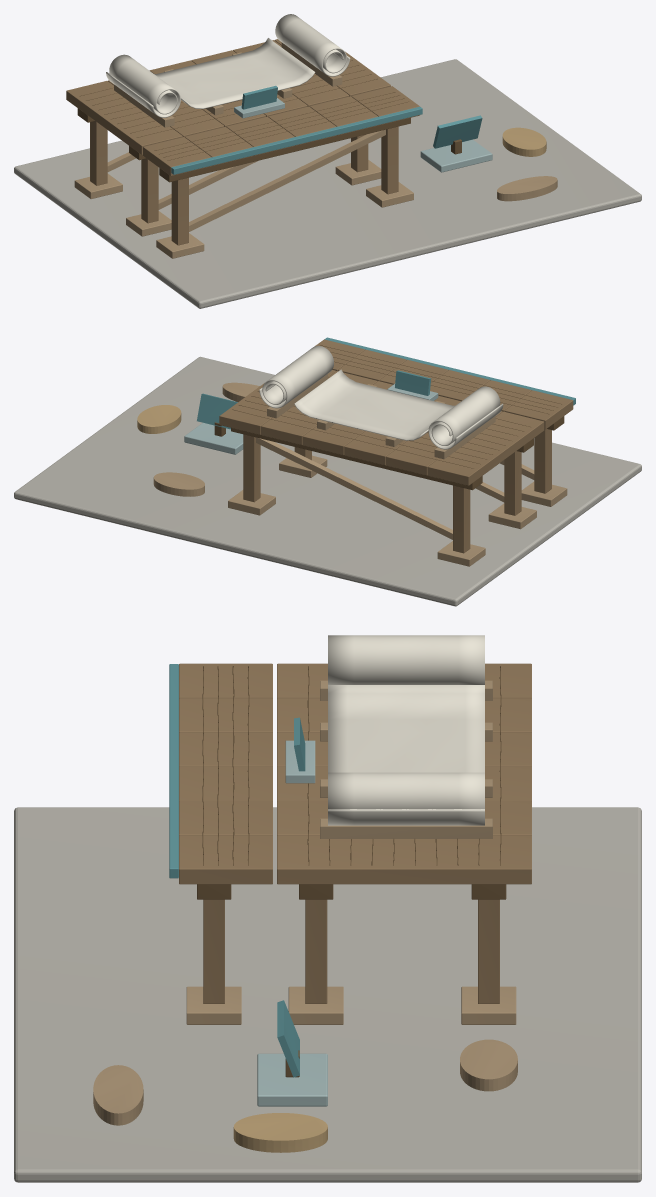
The model's file is nehemiah-reading.glb.
3 renders of one model, top to bottom at view 1: azimuth 30°, elevation 25°; view 2: azimuth 150°, elevation 25°; view 3: azimuth 270°, elevation 25°, orthographic. The views are drawn at different scales.
Visible parts, largest first — view 1: nehemiah-reading-nehemiah-modern-recessed-fixture, nehemiah-reading-nehemiah-original-ordinary-wood, nehemiah-reading-nehemiah-original-ordinary-wood.001, nehemiah-reading-nehemiah-modern-blank-curved-sheet, nehemiah-reading-nehemiah-original-pale-wood.001, nehemiah-reading-nehemiah-original-pale-wood, nehemiah-reading-nehemiah-original-wood-edge.001, nehemiah-reading-nehemiah-modern-blank-curved-sheet.001, nehemiah-reading-nehemiah-modern-blank-curved-sheet.002, nehemiah-reading-nehemiah-modern-section-indicator, nehemiah-reading-nehemiah-modern-pale-section-indicator.001, nehemiah-reading-nehemiah-original-pale-wood.002 (+6 smaller); view 2: nehemiah-reading-nehemiah-modern-recessed-fixture, nehemiah-reading-nehemiah-original-ordinary-wood, nehemiah-reading-nehemiah-original-ordinary-wood.001, nehemiah-reading-nehemiah-modern-blank-curved-sheet, nehemiah-reading-nehemiah-original-pale-wood, nehemiah-reading-nehemiah-modern-blank-curved-sheet.001, nehemiah-reading-nehemiah-modern-blank-curved-sheet.002, nehemiah-reading-nehemiah-original-wood-edge, nehemiah-reading-nehemiah-original-pale-wood.003, nehemiah-reading-nehemiah-original-pale-wood.002, nehemiah-reading-nehemiah-modern-pale-section-indicator.001, nehemiah-reading-nehemiah-modern-reading-ochre (+5 smaller); view 3: nehemiah-reading-nehemiah-modern-recessed-fixture, nehemiah-reading-nehemiah-original-ordinary-wood, nehemiah-reading-nehemiah-original-ordinary-wood.001, nehemiah-reading-nehemiah-modern-blank-curved-sheet, nehemiah-reading-nehemiah-modern-blank-curved-sheet.002, nehemiah-reading-nehemiah-modern-blank-curved-sheet.001, nehemiah-reading-nehemiah-original-pale-wood.003, nehemiah-reading-nehemiah-original-pale-wood, nehemiah-reading-nehemiah-original-pale-wood.002, nehemiah-reading-nehemiah-modern-pale-section-indicator.001, nehemiah-reading-nehemiah-modern-reading-ochre, nehemiah-reading-nehemiah-modern-section-indicator (+5 smaller).
Boxes of the visible parts, bbox=[...] form: nehemiah-reading-nehemiah-modern-recessed-fixture: bbox=[14, 59, 641, 308]; nehemiah-reading-nehemiah-original-ordinary-wood: bbox=[66, 39, 390, 223]; nehemiah-reading-nehemiah-original-ordinary-wood.001: bbox=[143, 86, 419, 245]; nehemiah-reading-nehemiah-modern-blank-curved-sheet: bbox=[154, 38, 315, 108]; nehemiah-reading-nehemiah-original-pale-wood.001: bbox=[156, 129, 413, 258]; nehemiah-reading-nehemiah-original-pale-wood: bbox=[74, 152, 381, 236]; nehemiah-reading-nehemiah-original-wood-edge.001: bbox=[154, 92, 410, 182]; nehemiah-reading-nehemiah-modern-blank-curved-sheet.001: bbox=[106, 54, 180, 117]; nehemiah-reading-nehemiah-modern-blank-curved-sheet.002: bbox=[275, 14, 350, 76]; nehemiah-reading-nehemiah-modern-section-indicator: bbox=[171, 106, 422, 174]; nehemiah-reading-nehemiah-modern-pale-section-indicator.001: bbox=[420, 139, 492, 172]; nehemiah-reading-nehemiah-original-pale-wood.002: bbox=[114, 42, 342, 127]; nehemiah-reading-nehemiah-modern-recessed-fixture: bbox=[14, 356, 641, 606]; nehemiah-reading-nehemiah-original-ordinary-wood: bbox=[219, 370, 544, 553]; nehemiah-reading-nehemiah-original-ordinary-wood.001: bbox=[315, 339, 573, 493]; nehemiah-reading-nehemiah-modern-blank-curved-sheet: bbox=[294, 369, 454, 440]; nehemiah-reading-nehemiah-original-pale-wood: bbox=[228, 437, 536, 566]; nehemiah-reading-nehemiah-modern-blank-curved-sheet.001: bbox=[428, 386, 503, 449]; nehemiah-reading-nehemiah-modern-blank-curved-sheet.002: bbox=[259, 345, 333, 408]; nehemiah-reading-nehemiah-original-wood-edge: bbox=[231, 377, 533, 490]; nehemiah-reading-nehemiah-original-pale-wood.003: bbox=[153, 382, 259, 496]; nehemiah-reading-nehemiah-original-pale-wood.002: bbox=[267, 374, 495, 459]; nehemiah-reading-nehemiah-modern-pale-section-indicator.001: bbox=[184, 422, 243, 454]; nehemiah-reading-nehemiah-modern-reading-ochre: bbox=[137, 405, 181, 433]; nehemiah-reading-nehemiah-modern-recessed-fixture: bbox=[14, 807, 641, 1182]; nehemiah-reading-nehemiah-original-ordinary-wood: bbox=[277, 663, 531, 1003]; nehemiah-reading-nehemiah-original-ordinary-wood.001: bbox=[179, 663, 272, 1003]; nehemiah-reading-nehemiah-modern-blank-curved-sheet: bbox=[328, 685, 484, 772]; nehemiah-reading-nehemiah-modern-blank-curved-sheet.002: bbox=[328, 772, 484, 825]; nehemiah-reading-nehemiah-modern-blank-curved-sheet.001: bbox=[328, 635, 484, 684]; nehemiah-reading-nehemiah-original-pale-wood.003: bbox=[93, 1039, 517, 1125]; nehemiah-reading-nehemiah-original-pale-wood: bbox=[288, 986, 516, 1024]; nehemiah-reading-nehemiah-original-pale-wood.002: bbox=[320, 680, 492, 838]; nehemiah-reading-nehemiah-modern-pale-section-indicator.001: bbox=[257, 1053, 327, 1106]; nehemiah-reading-nehemiah-modern-reading-ochre: bbox=[233, 1113, 327, 1152]; nehemiah-reading-nehemiah-modern-section-indicator: bbox=[169, 664, 178, 878].
Size of the model in its own units: 1.1 by 0.3263 by 0.8.
